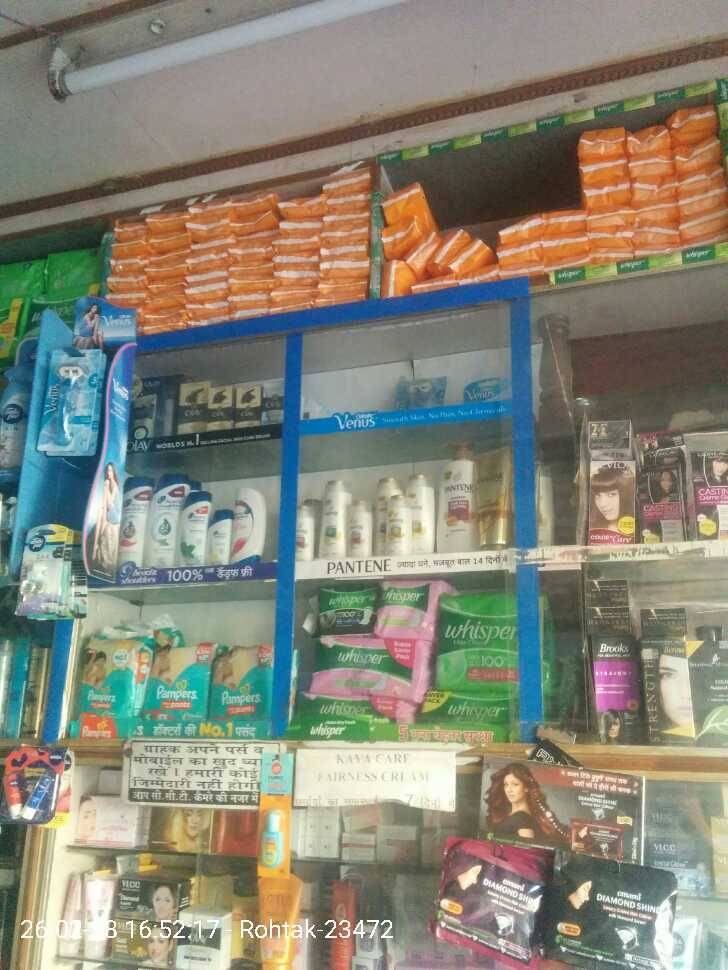venus: (46, 344, 109, 458), (389, 375, 442, 405), (465, 380, 504, 407)
